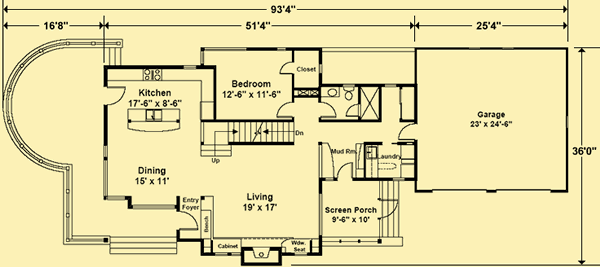door: (395, 118, 420, 145), (101, 84, 128, 108), (174, 208, 199, 232), (378, 197, 401, 220), (314, 100, 339, 119), (274, 99, 296, 119), (335, 160, 354, 182), (277, 60, 298, 78), (344, 101, 362, 119)
kitchen bar: (126, 106, 184, 135)
large sink: (341, 82, 357, 104)
small sink: (320, 86, 340, 99)
stairs: (200, 118, 305, 164), (107, 233, 181, 258)
windows: (128, 201, 178, 212), (101, 143, 110, 201), (200, 44, 247, 53), (315, 190, 323, 239), (212, 250, 239, 259), (181, 63, 199, 72), (382, 82, 399, 89)
